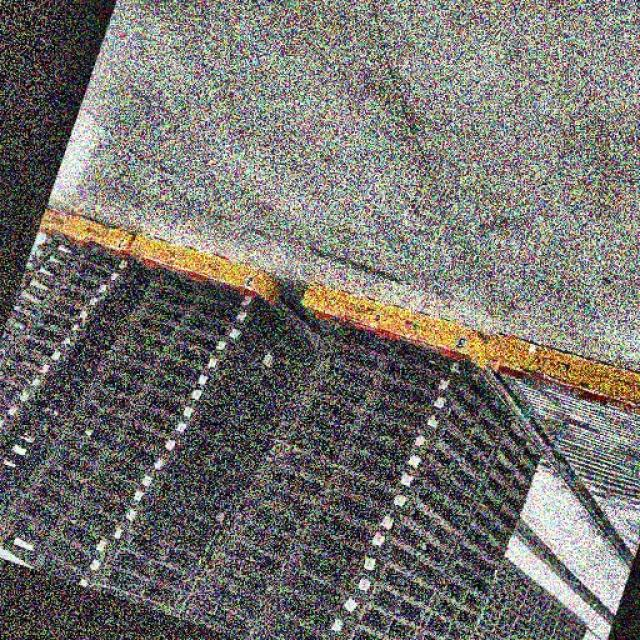igps: (217, 504, 383, 610), (210, 527, 374, 633), (230, 484, 384, 585), (196, 547, 360, 640), (256, 432, 417, 526), (248, 448, 407, 542), (242, 466, 394, 564), (265, 418, 423, 502), (280, 378, 436, 461), (276, 396, 428, 480), (297, 364, 448, 446), (304, 350, 458, 424), (318, 312, 472, 386), (186, 565, 335, 640), (314, 332, 464, 405), (45, 420, 164, 499), (30, 454, 146, 533), (58, 403, 175, 481), (0, 500, 110, 581), (2, 488, 116, 565), (21, 470, 133, 548), (67, 389, 186, 462), (79, 372, 196, 445), (43, 438, 153, 513), (89, 362, 205, 428), (96, 344, 211, 410), (108, 327, 216, 395), (146, 260, 266, 319), (0, 522, 98, 592), (140, 275, 259, 332), (128, 294, 249, 350), (113, 318, 225, 378), (122, 308, 234, 366), (178, 585, 288, 640)
